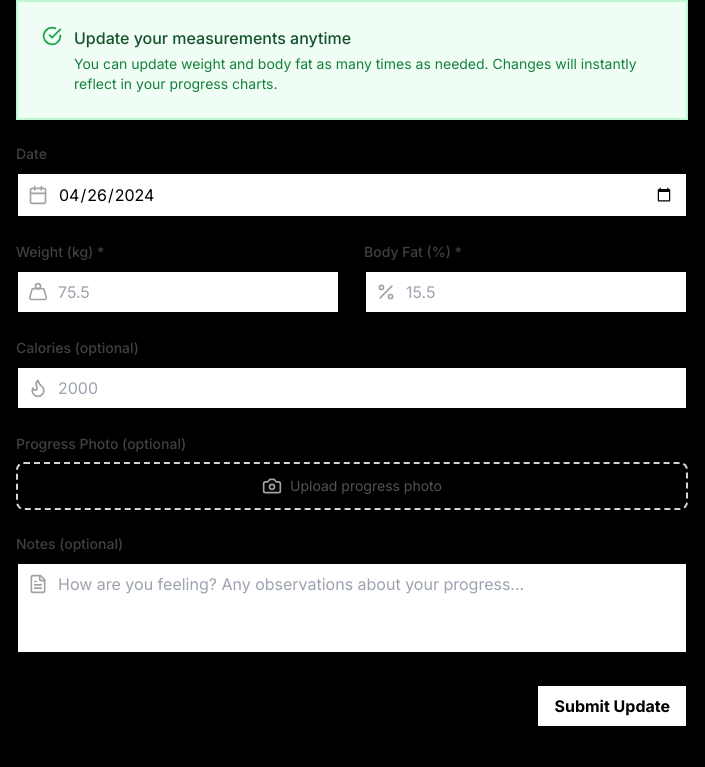
Upload Lock Logic › Form Submission › should validate required fields
Click the button "Submit Update": (612, 706) [536,684,688,728]
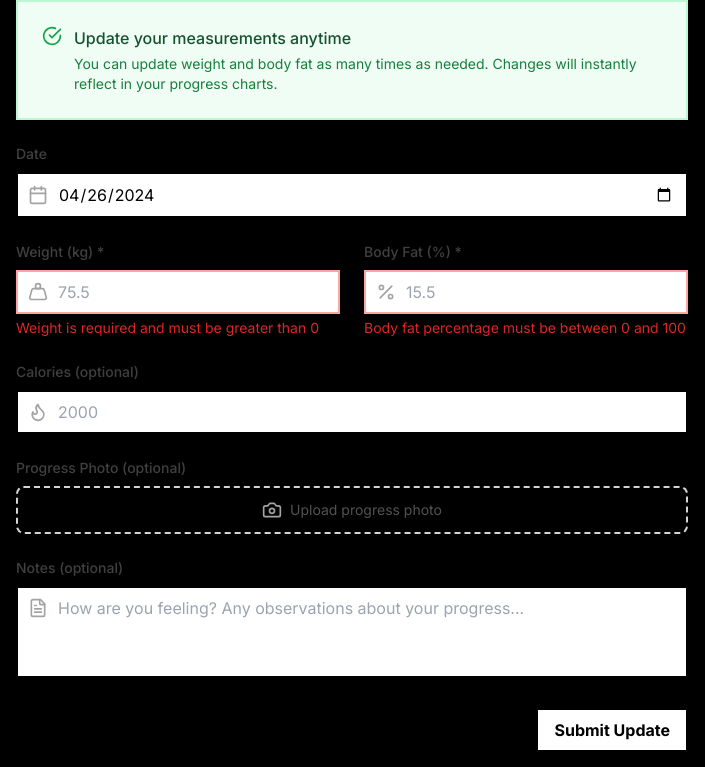
Result: the text "Weight is required and must be greater than 0" is shown at [16,318,340,338]
Result: the text "Body fat percentage must be between 0 and 100" is shown at [364,318,688,338]
